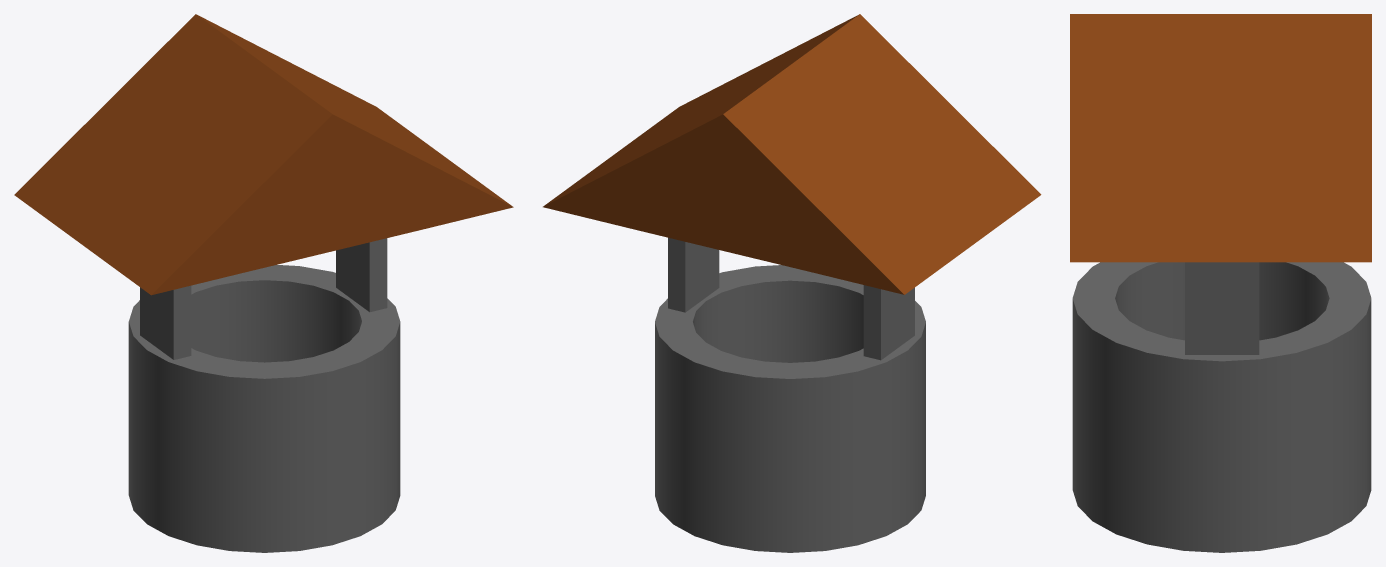
The model's file is Well.dae.
3 renders of one model, left to right at view 1: azimuth 30°, elevation 25°; view 2: azimuth 150°, elevation 25°; view 3: azimuth 270°, elevation 25°, orthographic. The views are drawn at different scales.
Visible parts, largest first — view 1: SketchUp (×5); view 2: SketchUp (×5); view 3: SketchUp (×4).
Boxes of the visible parts, x1=… form: SketchUp (×5): x1=14, y1=14, x2=513, y2=552; SketchUp (×5): x1=543, y1=14, x2=1041, y2=552; SketchUp (×4): x1=1070, y1=14, x2=1371, y2=552.
Bounding box in the file's own units: 0.2435 × 0.1594 × 0.2771.
